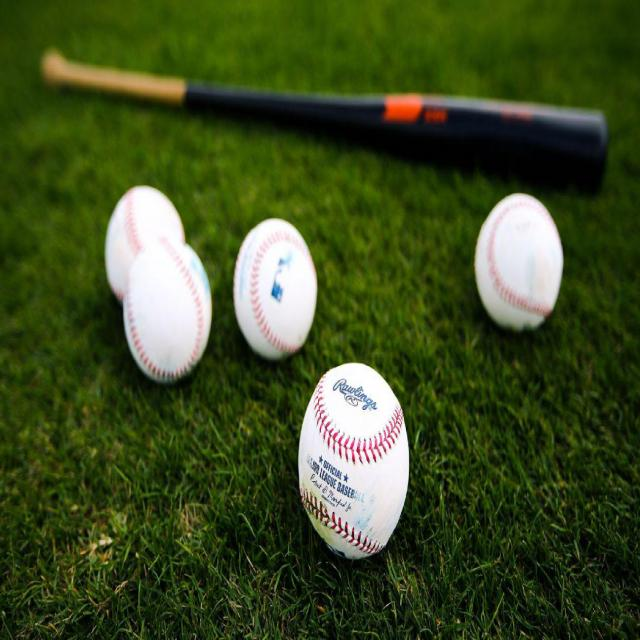baseball: (297, 362, 409, 556), (123, 238, 212, 384), (474, 194, 563, 331), (232, 220, 318, 356)
